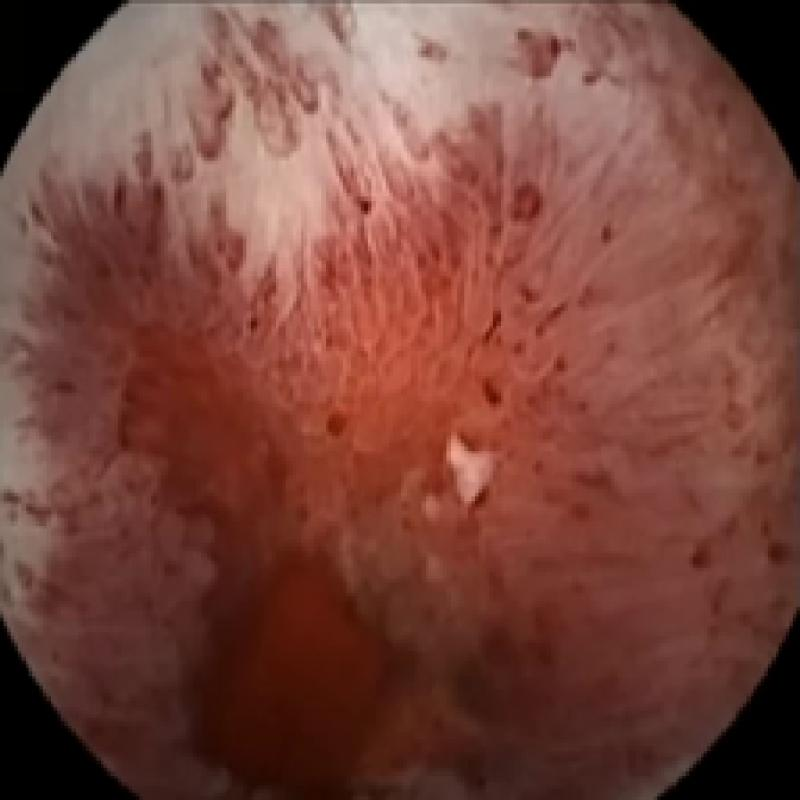bleeding: (111, 228, 575, 796)
